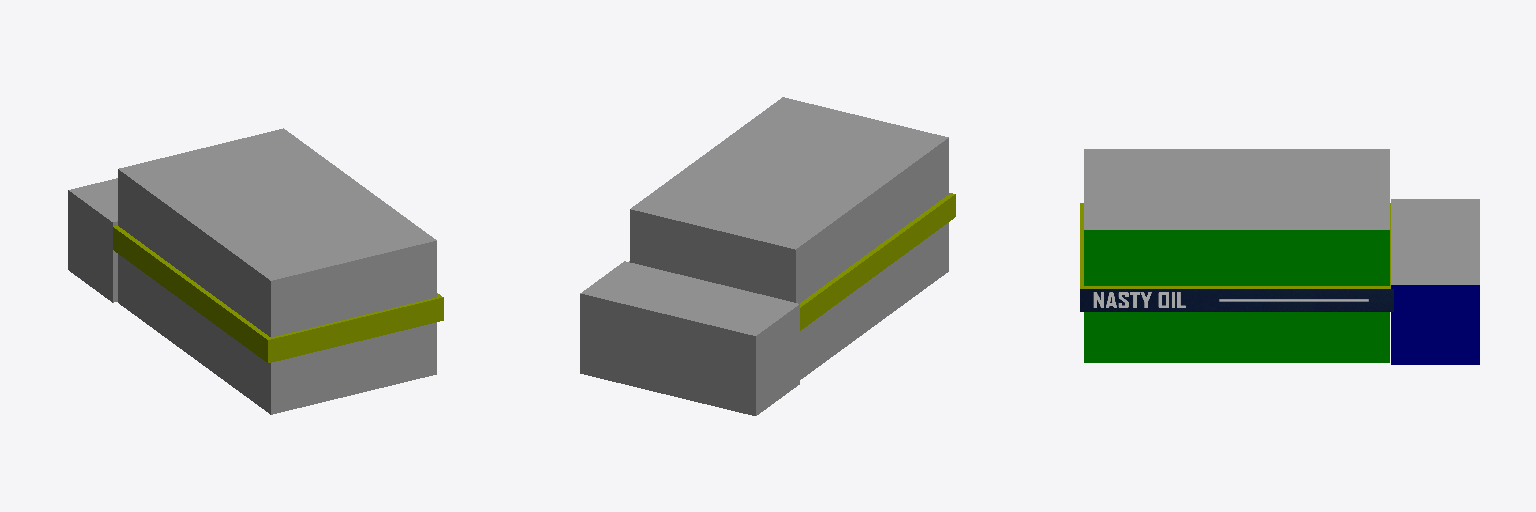
3 views of the same model, side by side, from view 1: azimuth 30°, elevation 25°; view 2: azimuth 150°, elevation 25°; view 3: azimuth 270°, elevation 25° (orthographic).
Parts seen in each view (by area): view 1: Cube.001; view 2: Cube.001; view 3: Cube.001.
Boxes of the visible parts, x1=… form: Cube.001: x1=68, y1=128, x2=443, y2=414; Cube.001: x1=580, y1=97, x2=955, y2=415; Cube.001: x1=1080, y1=149, x2=1479, y2=364.
Bounding box in the file's own units: 9.16 × 6.68 × 18.05.
Materials: 6 (1 with a texture image).